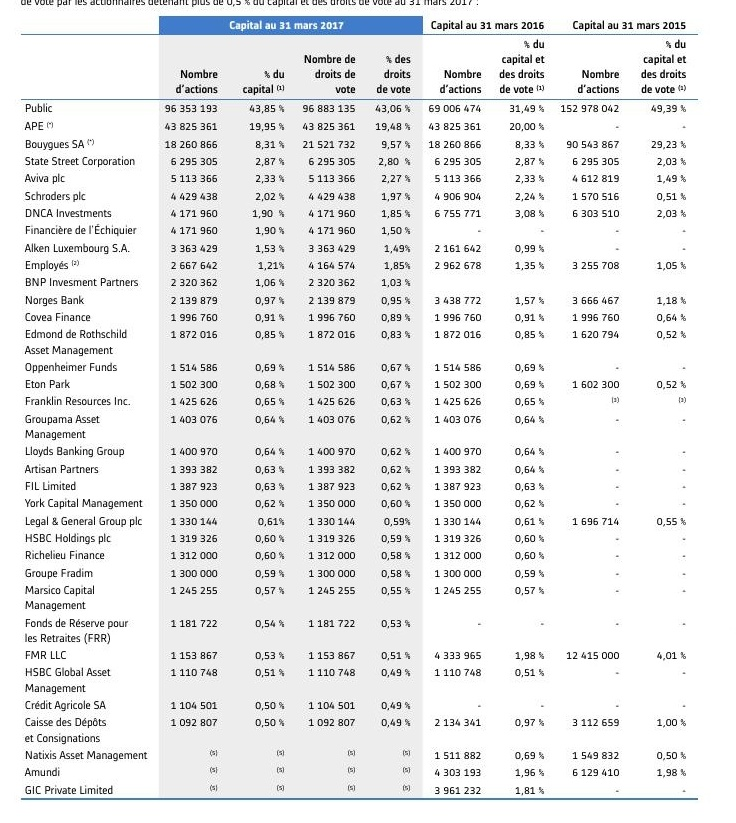table: (0, 0, 736, 823)
